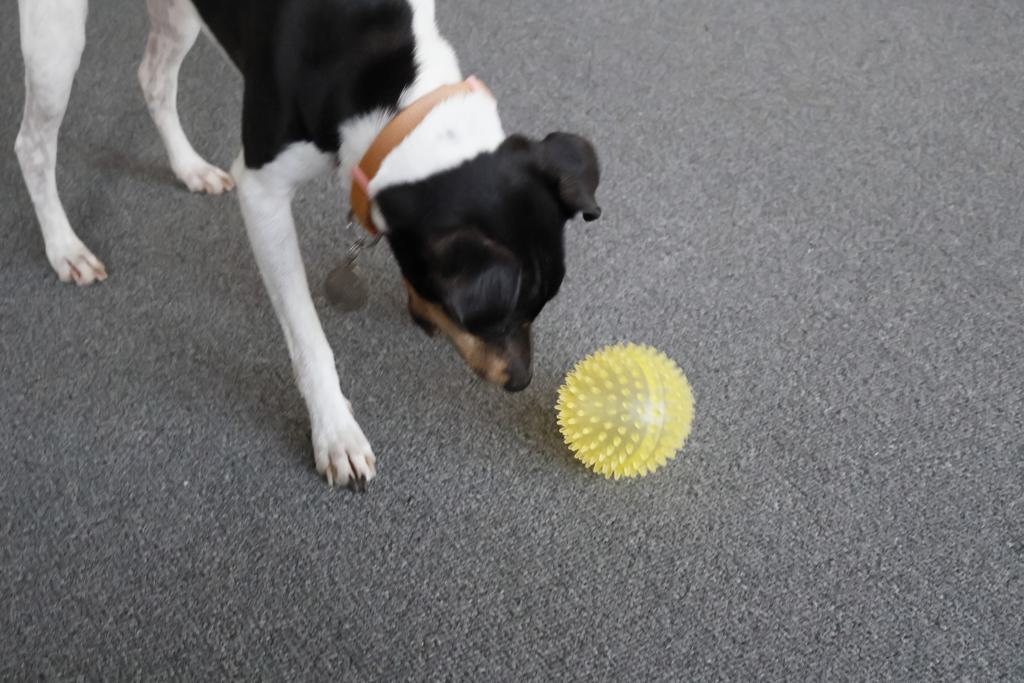Dog: (9, 0, 611, 503)
